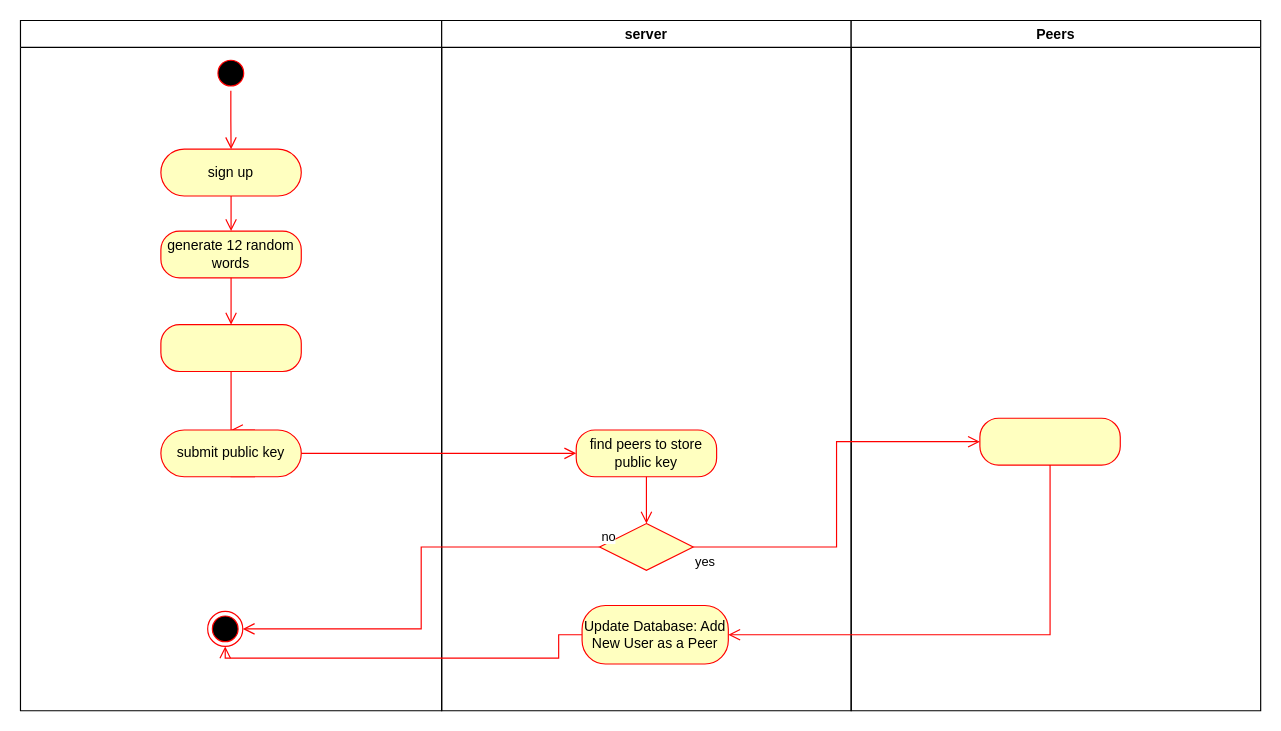
Some shapes in this 1281 by 731 pixel diagram are drawn without their labels. The box of each missing label's shape, as (x1, y1, x2, y2) in pixels:
generate private and public key from words: (160, 324, 301, 371)
Store Public key: (979, 417, 1120, 465)
User: (19, 19, 442, 711)
